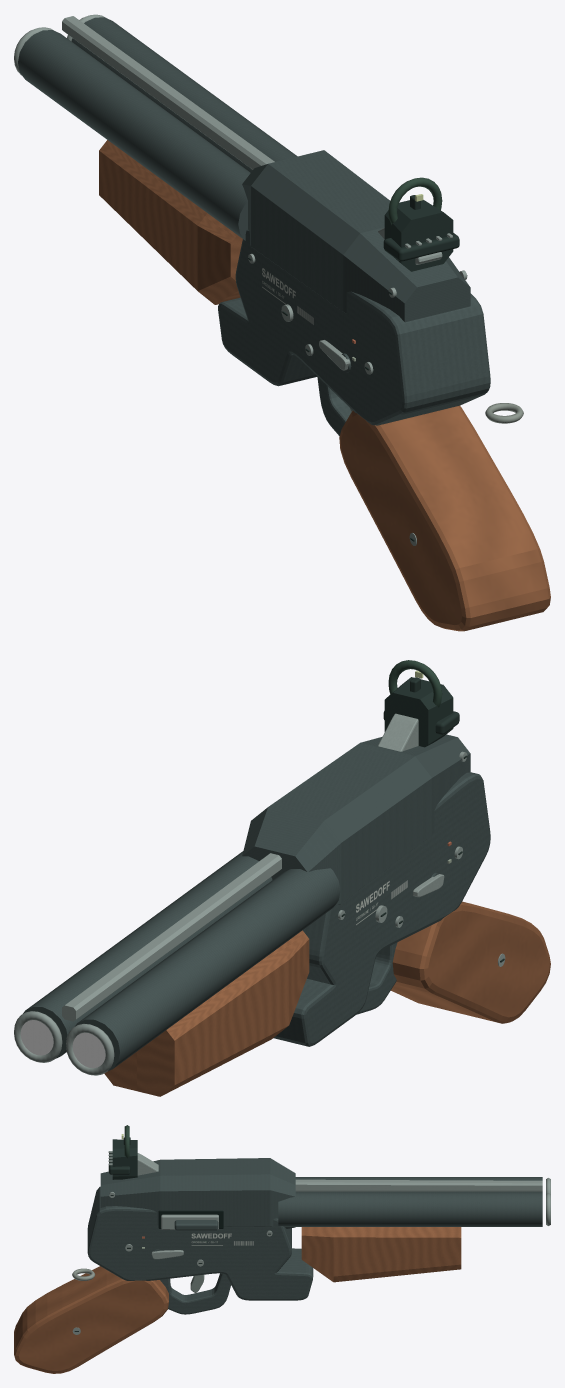
Rendered from sawedoff.glb.
3 views of the same model, one above another, from view 1: azimuth 30°, elevation 25°; view 2: azimuth 150°, elevation 25°; view 3: azimuth 270°, elevation 25° (orthographic). The views are drawn at different scales.
Parts seen in each view (by area): view 1: sawedoff, pump; view 2: sawedoff, pump; view 3: sawedoff, pump, bolt.
Part boxes in pixels (x1=…): sawedoff: x1=14, y1=14, x2=550, y2=631; pump: x1=99, y1=140, x2=242, y2=304; sawedoff: x1=14, y1=660, x2=550, y2=1075; pump: x1=104, y1=930, x2=309, y2=1096; sawedoff: x1=14, y1=1125, x2=550, y2=1373; pump: x1=301, y1=1227, x2=461, y2=1282; bolt: x1=161, y1=1214, x2=218, y2=1230.
Bounding box in the file's own units: 0.144 × 0.448 × 0.9245.
Materials: 14 (9 with a texture image).
